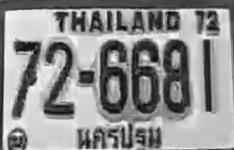1: (201, 38, 213, 110)
2: (43, 40, 74, 115)
6: (99, 39, 127, 114), (131, 39, 159, 113)
7: (11, 39, 41, 118)
8: (162, 38, 192, 114)
NPT: (72, 123, 164, 150)
